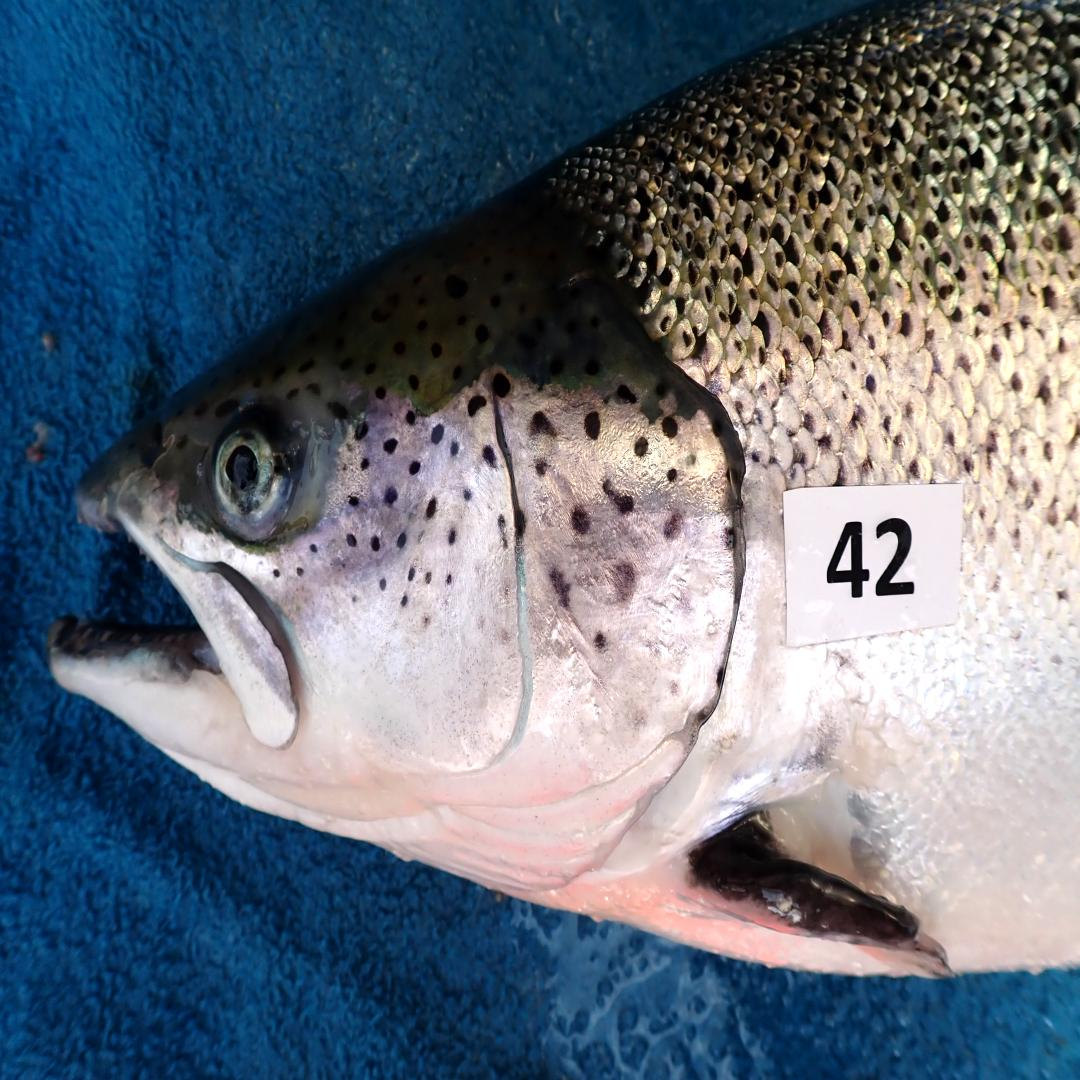roi: (296, 368, 743, 900)
